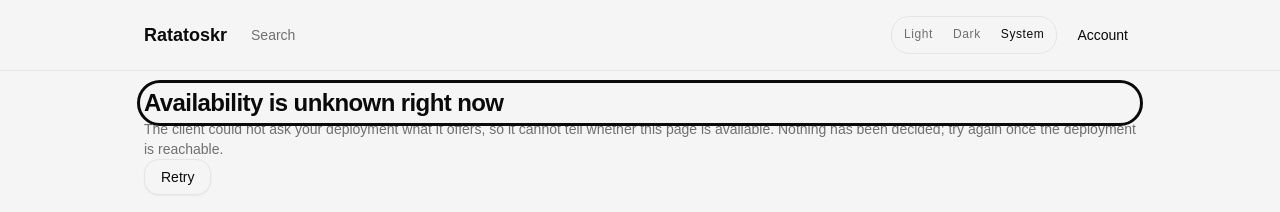
Test case: capability-gated routes › an undecidable read holds the route with retry, which admits it per the fresh answer
Expected: the header is shown, [0,0,1279,71]
Expected: the text "collections arrived" is not shown
Click the button "Retry" at (178, 177), box [144,159,212,195]
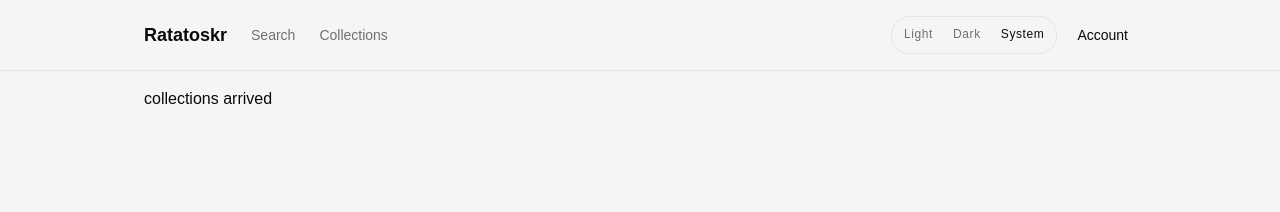
Now the text "collections arrived" is shown, box [144,90,272,107]
